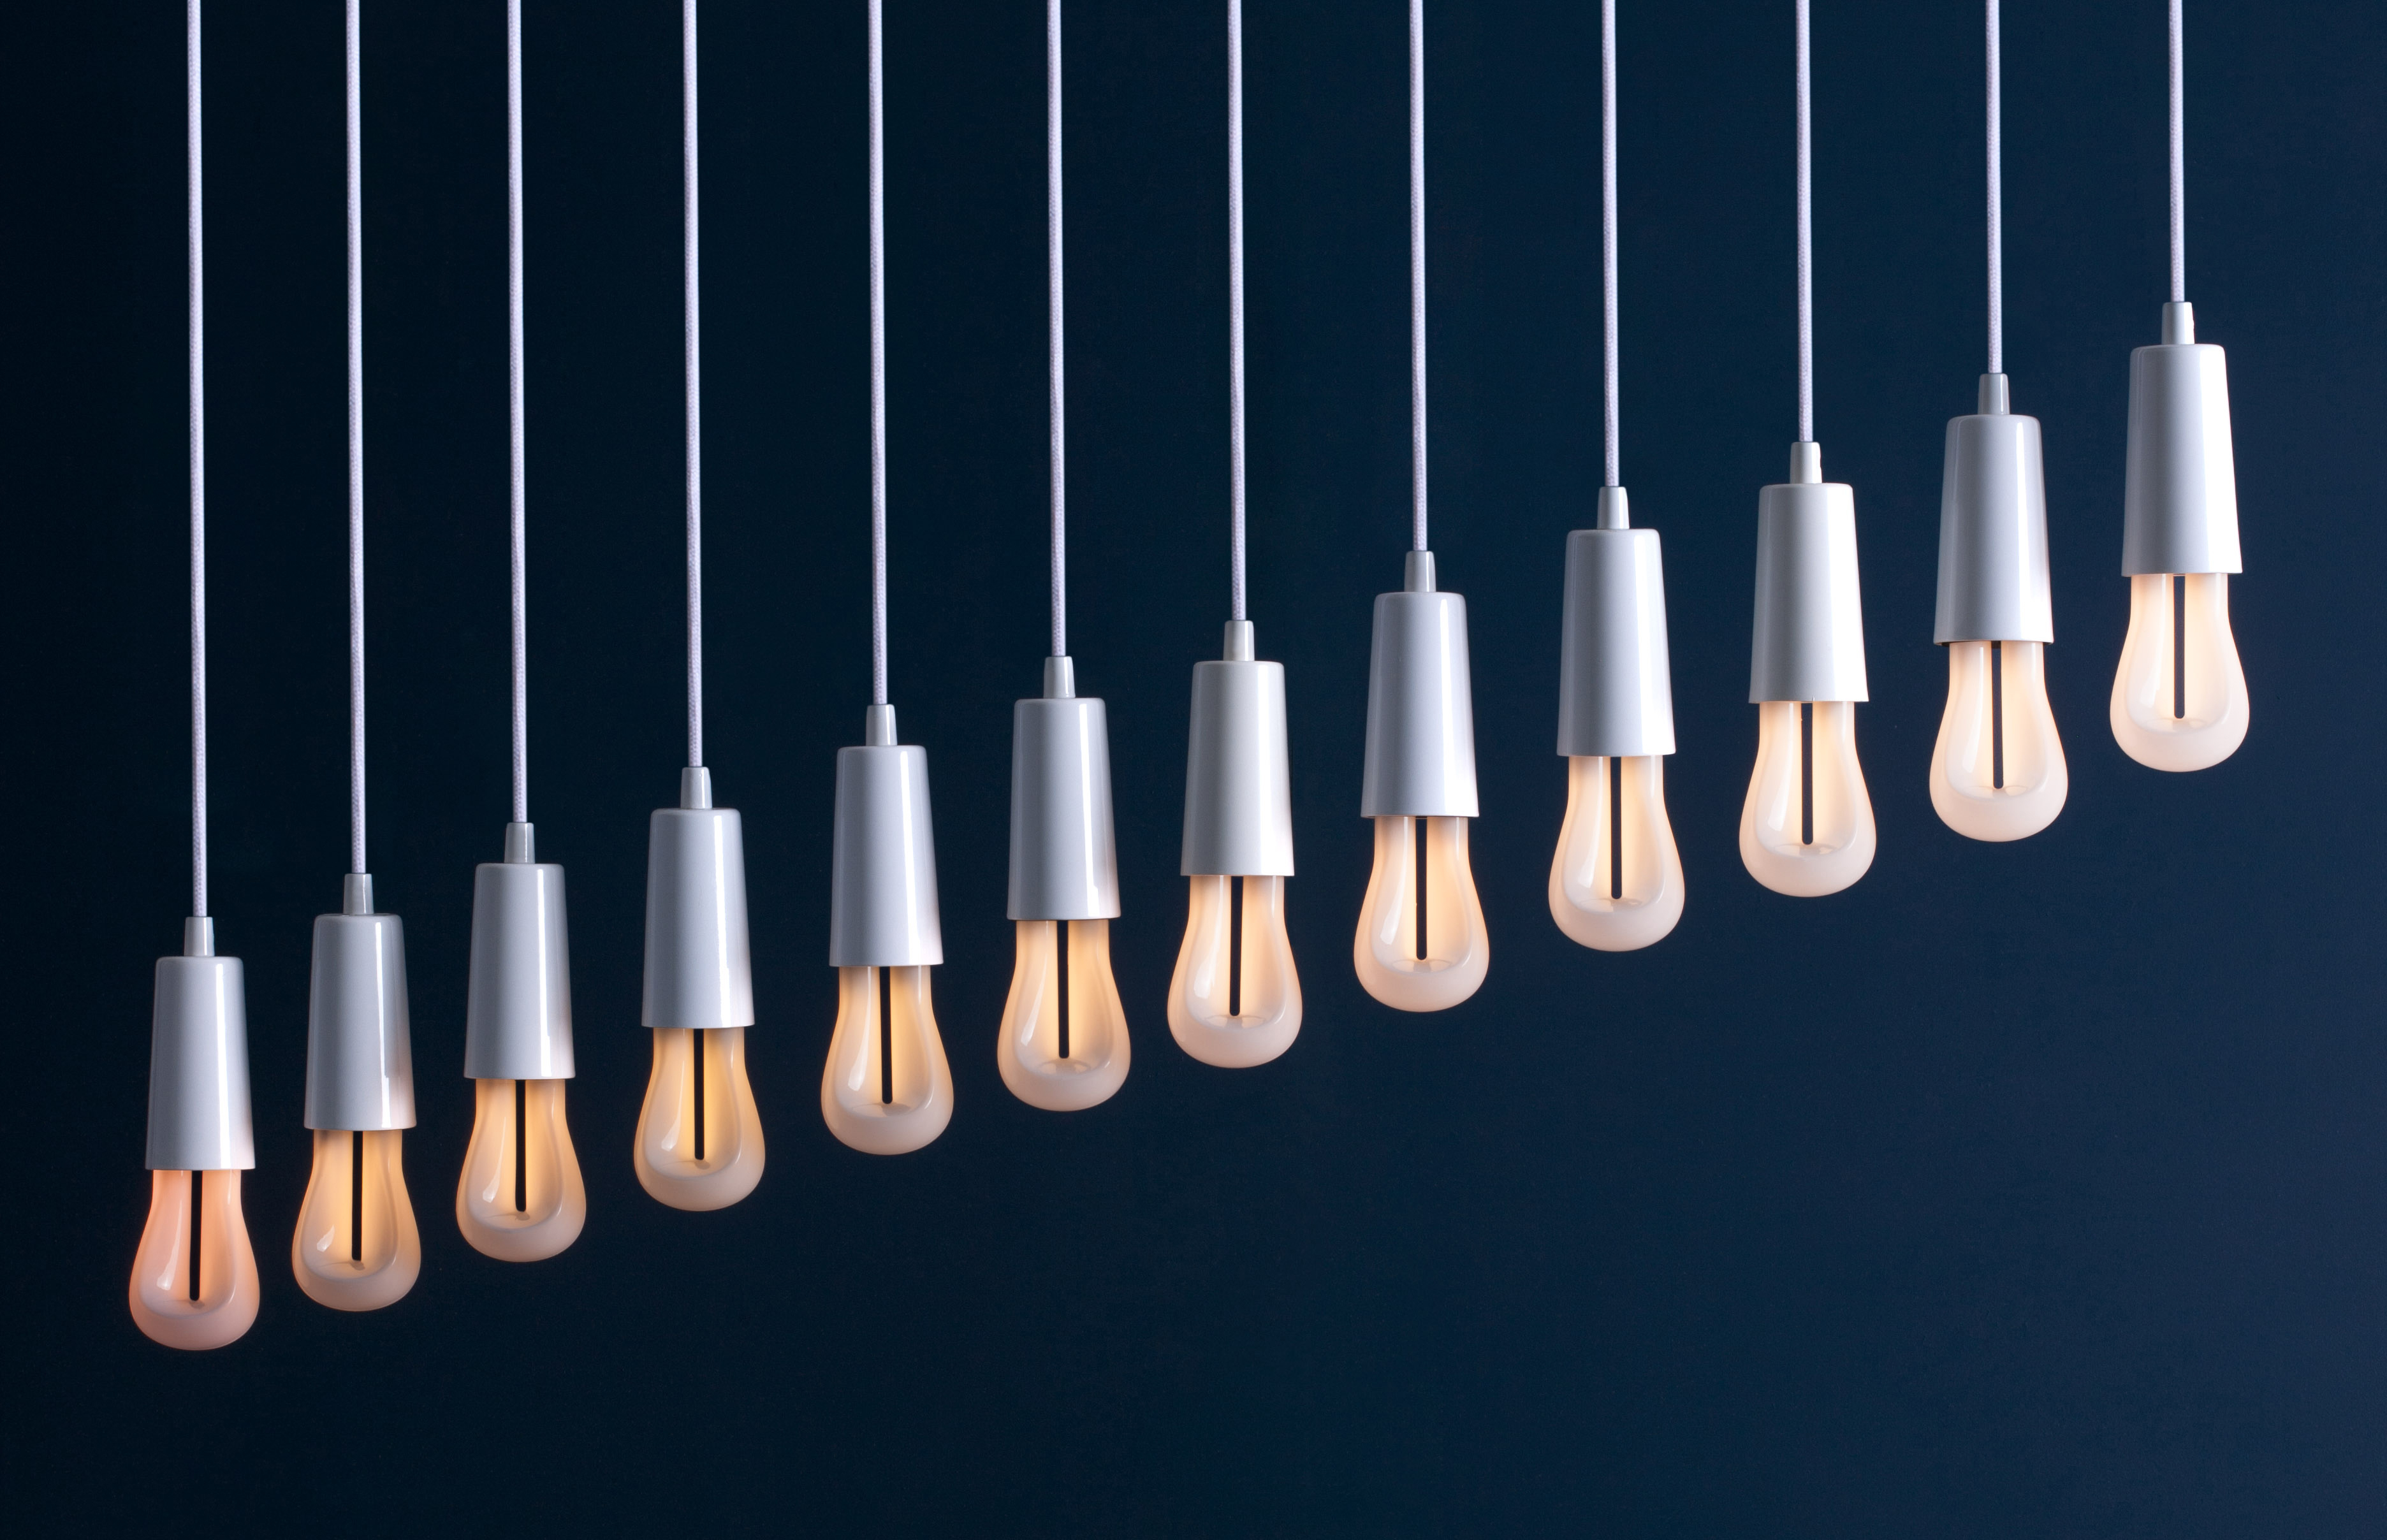Nonrec_Glass: (70, 270, 2263, 1357)
